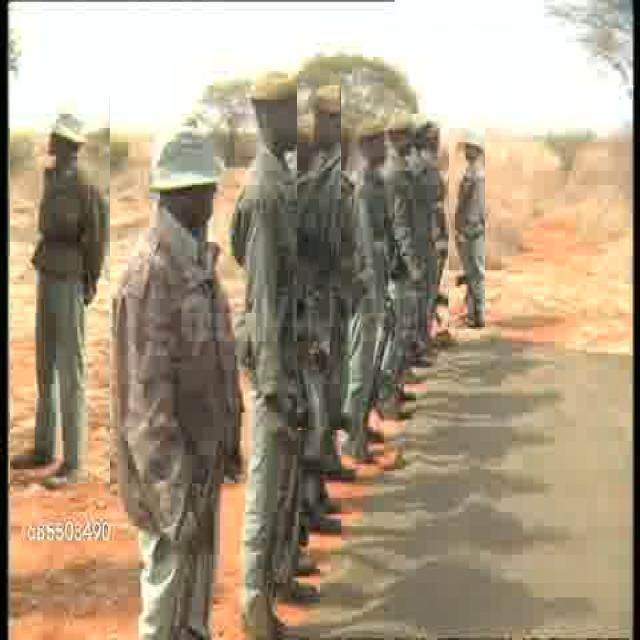poacher: (105, 115, 243, 568), (10, 96, 110, 498), (238, 62, 308, 518), (298, 75, 342, 430), (352, 120, 394, 430), (450, 128, 486, 331)
